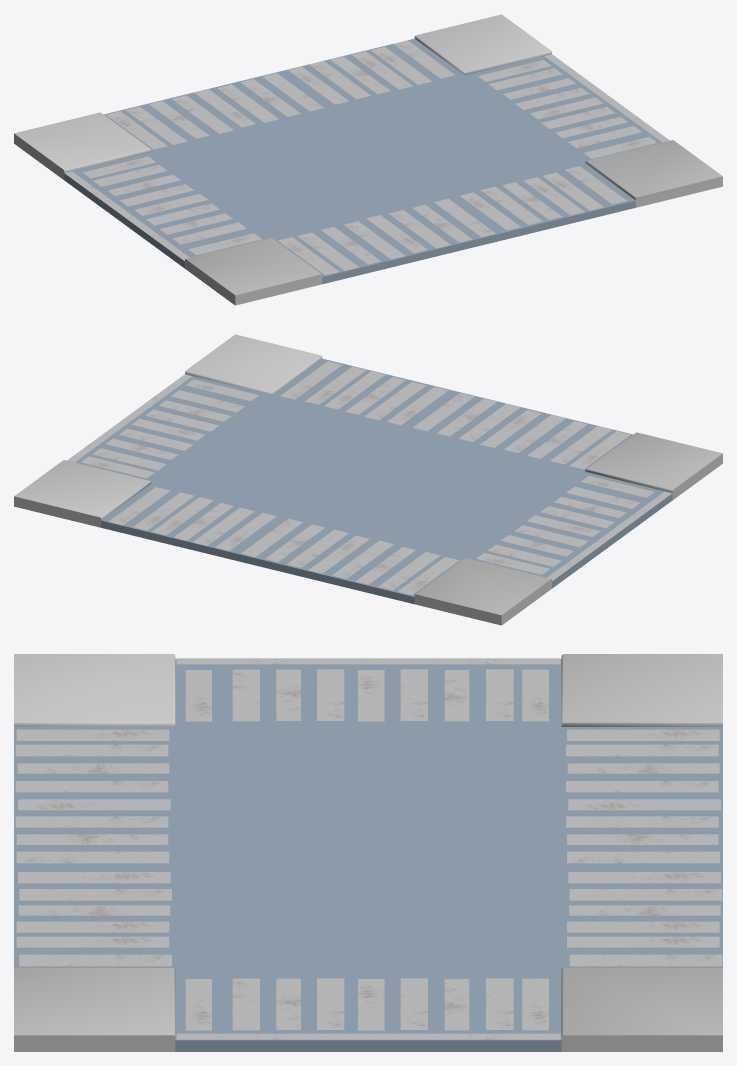
Rendered from Road_003.fbx.
The picture shows the model from 3 angles, top to bottom: view 1: azimuth 30°, elevation 25°; view 2: azimuth 150°, elevation 25°; view 3: azimuth 270°, elevation 25°; orthographic projection. The views are drawn at different scales.
Parts seen in each view (by area): view 1: Road_003; view 2: Road_003; view 3: Road_003.
Part boxes in pixels (left/top/right/bottom): Road_003: left=14, top=14, right=722, bottom=305; Road_003: left=14, top=334, right=722, bottom=625; Road_003: left=14, top=654, right=722, bottom=1051.
Bounding box in the file's own units: 2803 × 56.17 × 2202.
